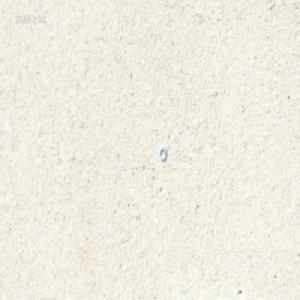Washer: (158, 146, 166, 161)
